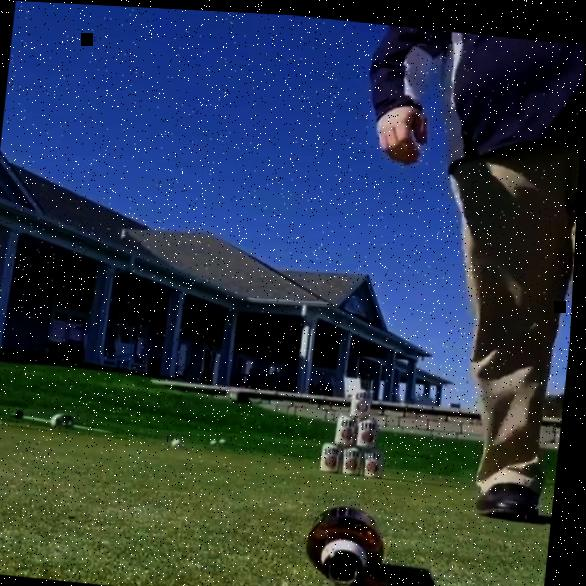GolfBall: (174, 434, 185, 444), (221, 435, 230, 442), (214, 437, 221, 442)
